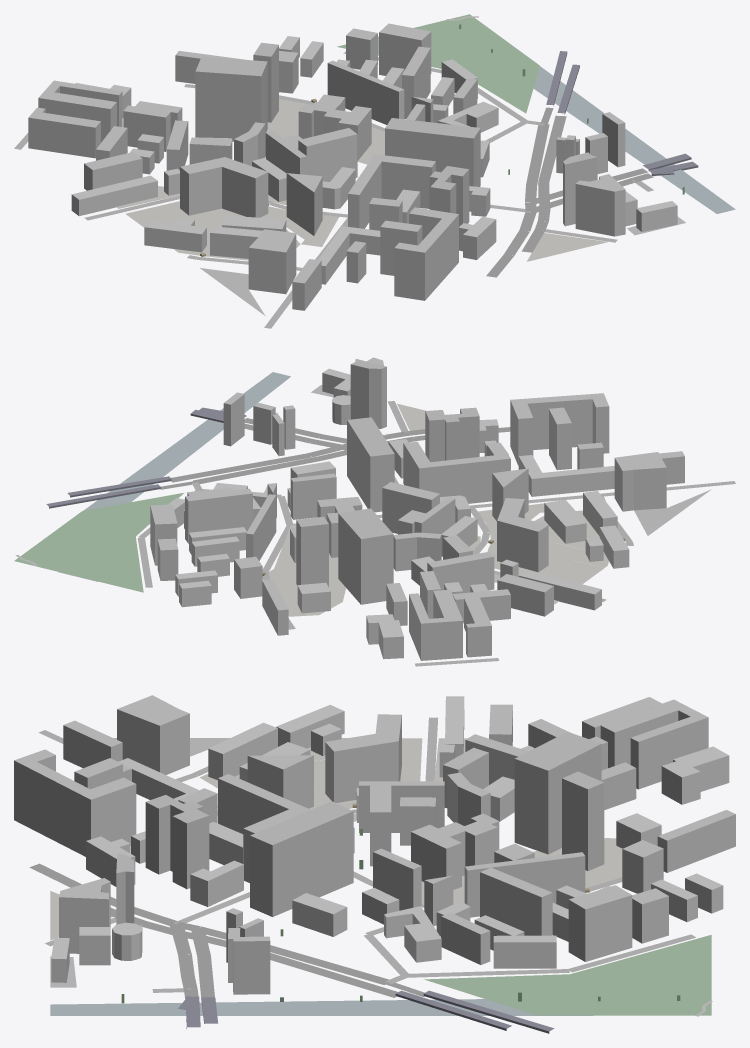
3 views of the same model, one above another, from view 1: azimuth 30°, elevation 25°; view 2: azimuth 150°, elevation 25°; view 3: azimuth 270°, elevation 25° (orthographic). The views are drawn at different scales.
Bounding box in the file's own units: 575 × 71.64 × 546.
